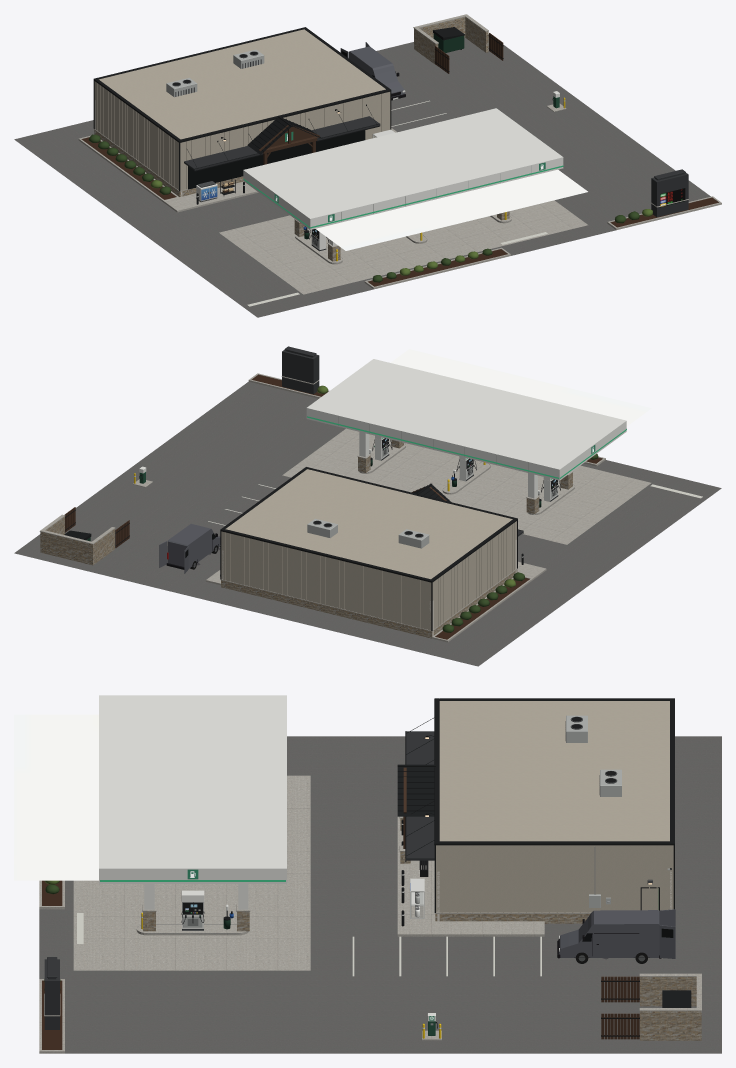
The model's file is town2_gas.gltf.
3 views of the same model, one above another, from view 1: azimuth 30°, elevation 25°; view 2: azimuth 150°, elevation 25°; view 3: azimuth 270°, elevation 25° (orthographic). The views are drawn at different scales.
Parts seen in each view (by area): view 1: Town2Gas_lod1_asphalt, Town2Gas_lod1_paint, Town2Gas_ext_asphalt, Town2Gas_lod1_siding, Town2Gas_ext_paint, Town2Gas_lod1_concrete, Town2Gas_lod1_g_signs, Town2Gas_ext_siding, Town2Gas_ext_concrete, Town2Gas_ext_stone, Town2Gas_lod1_stone; view 2: Town2Gas_lod1_asphalt, Town2Gas_ext_asphalt, Town2Gas_lod1_siding, Town2Gas_lod1_paint, Town2Gas_lod1_concrete, Town2Gas_ext_paint, Town2Gas_ext_siding, Town2Gas_lod1_g_signs, Town2Gas_ext_stone, Town2Gas_ext_concrete, Town2Gas_ext_g_signs; view 3: Town2Gas_ext_asphalt, Town2Gas_lod1_siding, Town2Gas_lod1_paint, Town2Gas_ext_paint, Town2Gas_lod1_asphalt, Town2Gas_lod1_concrete, Town2Gas_lod1_g_signs, Town2Gas_ext_concrete, Town2Gas_ext_stone, Town2Gas_ext_siding, Town2Gas_lod1_stone, Town2Gas_ext_g_signs.
Boxes of the visible parts, x1,y1,x2,y2 form: Town2Gas_lod1_asphalt: (14, 34, 710, 317); Town2Gas_lod1_paint: (184, 108, 688, 251); Town2Gas_ext_asphalt: (14, 36, 709, 317); Town2Gas_lod1_siding: (94, 29, 385, 190); Town2Gas_ext_paint: (81, 27, 718, 306); Town2Gas_lod1_concrete: (219, 200, 587, 294); Town2Gas_lod1_g_signs: (310, 165, 685, 250); Town2Gas_ext_siding: (97, 83, 390, 190); Town2Gas_ext_concrete: (78, 14, 721, 289); Town2Gas_ext_stone: (94, 17, 509, 261); Town2Gas_lod1_stone: (96, 132, 243, 196); Town2Gas_lod1_asphalt: (15, 383, 720, 665); Town2Gas_ext_asphalt: (14, 381, 721, 666); Town2Gas_lod1_siding: (221, 469, 516, 630); Town2Gas_lod1_paint: (282, 350, 626, 536); Town2Gas_lod1_concrete: (282, 428, 650, 544); Town2Gas_ext_paint: (64, 346, 702, 639); Town2Gas_ext_siding: (224, 522, 515, 630); Town2Gas_lod1_g_signs: (390, 349, 651, 429); Town2Gas_ext_stone: (40, 439, 572, 638); Town2Gas_ext_concrete: (39, 373, 605, 642); Town2Gas_ext_g_signs: (307, 416, 626, 486); Town2Gas_ext_asphalt: (39, 736, 721, 1053); Town2Gas_lod1_siding: (436, 701, 673, 912); Town2Gas_lod1_paint: (44, 695, 434, 1029); Town2Gas_ext_paint: (42, 698, 691, 1049); Town2Gas_lod1_asphalt: (39, 736, 721, 1053); Town2Gas_lod1_concrete: (73, 775, 310, 970); Town2Gas_lod1_g_signs: (14, 714, 98, 880); Town2Gas_ext_concrete: (39, 816, 701, 1053); Town2Gas_ext_stone: (143, 818, 701, 1040); Town2Gas_ext_siding: (441, 845, 665, 912); Town2Gas_lod1_stone: (435, 914, 589, 923); Town2Gas_ext_g_signs: (100, 737, 652, 1020).
Bounding box in the file's own units: 44 × 6 × 41.49.
Materials: 19 (18 with a texture image).
